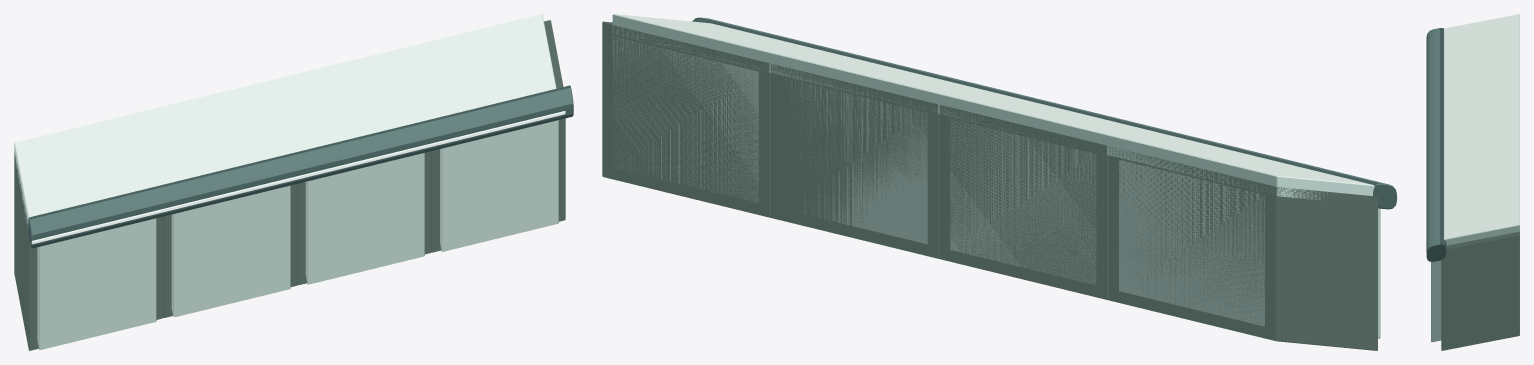
The model's file is Terrain_TopRun4R.gltf.
3 renders of one model, left to right at view 1: azimuth 30°, elevation 25°; view 2: azimuth 150°, elevation 25°; view 3: azimuth 270°, elevation 25°, orthographic. The views are drawn at different scales.
Visible parts, largest first — view 1: Terrain_TopRun4R_baked; view 2: Terrain_TopRun4R_baked; view 3: Terrain_TopRun4R_baked.
Boxes of the visible parts, x1,y1,x2,y2 form: Terrain_TopRun4R_baked: [14, 14, 573, 350]; Terrain_TopRun4R_baked: [602, 14, 1397, 350]; Terrain_TopRun4R_baked: [1426, 14, 1519, 350].
Bounding box in the file's own units: 4.29 × 1.18 × 0.74.
